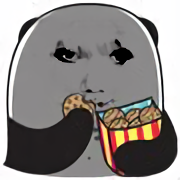dragon: (51, 40, 133, 106)
